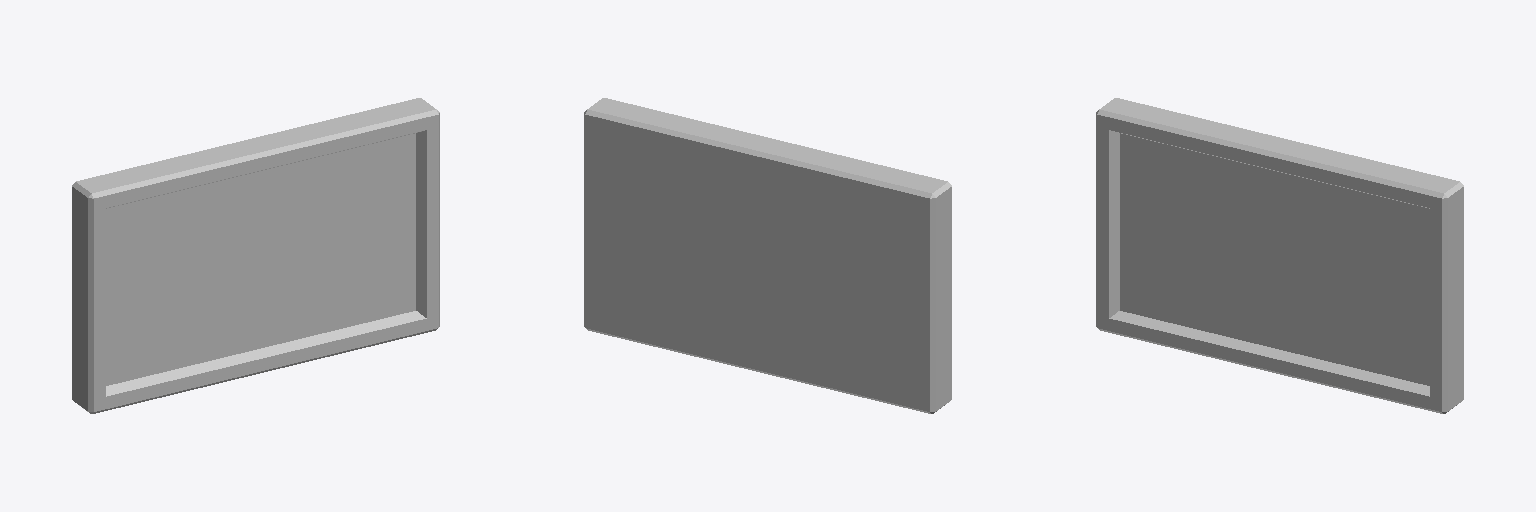
Rendered from pictureframe_large_B.obj.
The picture shows the model from 3 angles: view 1: azimuth 30°, elevation 25°; view 2: azimuth 150°, elevation 25°; view 3: azimuth 330°, elevation 25°; orthographic projection.
Visible parts, largest first — view 1: pictureframe_large_B_Cube.018; view 2: pictureframe_large_B_Cube.018; view 3: pictureframe_large_B_Cube.018.
Part boxes in pixels (bbox=[...]): pictureframe_large_B_Cube.018: bbox=[72, 98, 439, 413]; pictureframe_large_B_Cube.018: bbox=[584, 98, 951, 413]; pictureframe_large_B_Cube.018: bbox=[1096, 98, 1463, 413].
Bounding box in the file's own units: 2 × 1.2 × 0.2.